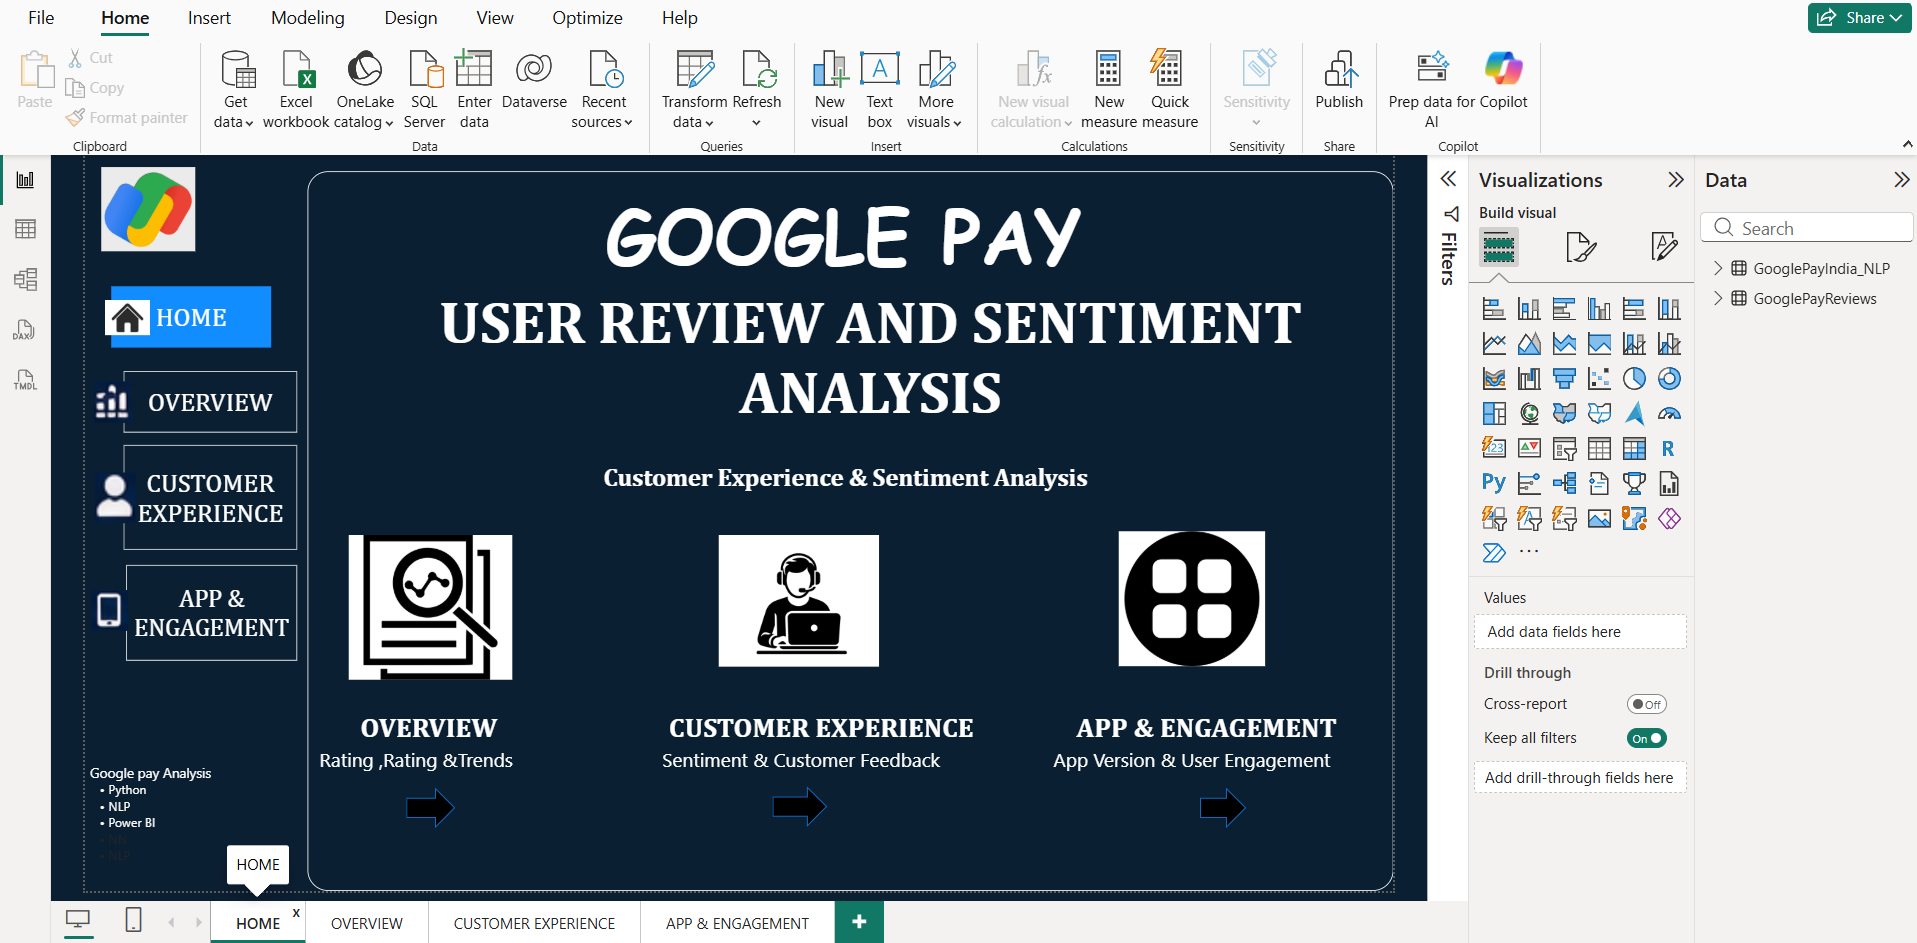

What the dashboard file says about the page in this screenshot:
{"tool":"powerbi","page":{"name":"HOME","canvas":[1280,720],"ordinal":0},"visuals":[{"type":"textbox","box":[218.2,16.5,1062.1,703.9],"z":0},{"type":"image","box":[258,371.7,160.2,141.8],"z":1000},{"type":"image","box":[620.2,371.9,156.4,129],"z":2000},{"type":"image","box":[1011.3,368.1,143.1,132.1],"z":3000},{"type":"shape","box":[314.2,618.9,48,39.8],"z":4000},{"type":"shape","box":[1090.9,618.9,45.3,39.8],"z":5000},{"type":"shape","box":[672.4,617.5,53.5,39.8],"z":6000},{"type":"image","box":[16.5,11,91.7,84.4],"z":7000},{"type":"shape","box":[26.1,129,156.4,60.4],"z":8000},{"type":"image","box":[19.2,141.3,43.9,34.3],"z":9000},{"type":"shape","box":[37.9,211.6,170,59.9],"z":10000},{"type":"shape","box":[37.9,283.7,170,102.7],"z":11000},{"type":"shape","box":[40.4,401.1,167.4,93.3],"z":12000},{"type":"textbox","box":[0,555.7,185.2,164.7],"z":13000},{"type":"image","box":[3.7,425.5,40.4,40.4],"z":14000},{"type":"image","box":[5.5,310.1,49.4,49.4],"z":15000},{"type":"image","box":[0,220.9,54.9,41.2],"z":16000}]}

Visuals, with their boxes on the page's 1280x720 design canvas (x1, y1, x2, y2). These are canvas units, not pixel positions in the 1917x943 screenshot, which may show the page scaled, cropped or inside an application window:
textbox: left=218, top=16, right=1280, bottom=720
image: left=258, top=372, right=418, bottom=514
image: left=620, top=372, right=777, bottom=501
image: left=1011, top=368, right=1154, bottom=500
shape: left=314, top=619, right=362, bottom=659
shape: left=1091, top=619, right=1136, bottom=659
shape: left=672, top=618, right=726, bottom=657
image: left=16, top=11, right=108, bottom=95
shape: left=26, top=129, right=182, bottom=189
image: left=19, top=141, right=63, bottom=176
shape: left=38, top=212, right=208, bottom=272
shape: left=38, top=284, right=208, bottom=386
shape: left=40, top=401, right=208, bottom=494
textbox: left=0, top=556, right=185, bottom=720
image: left=4, top=426, right=44, bottom=466
image: left=6, top=310, right=55, bottom=360
image: left=0, top=221, right=55, bottom=262
